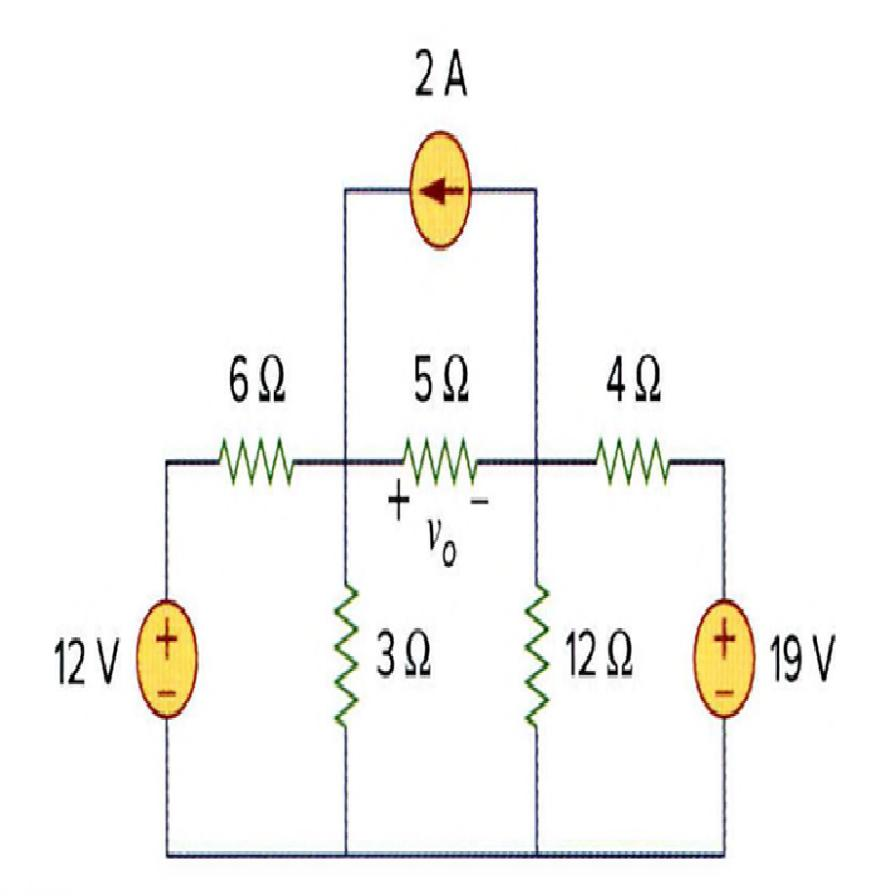I4: (403, 120, 480, 264)
R1: (584, 417, 682, 514), (209, 417, 301, 515), (393, 413, 484, 495)
R2: (514, 572, 558, 746), (321, 580, 365, 743)
V1: (126, 587, 203, 739), (690, 588, 761, 728)
